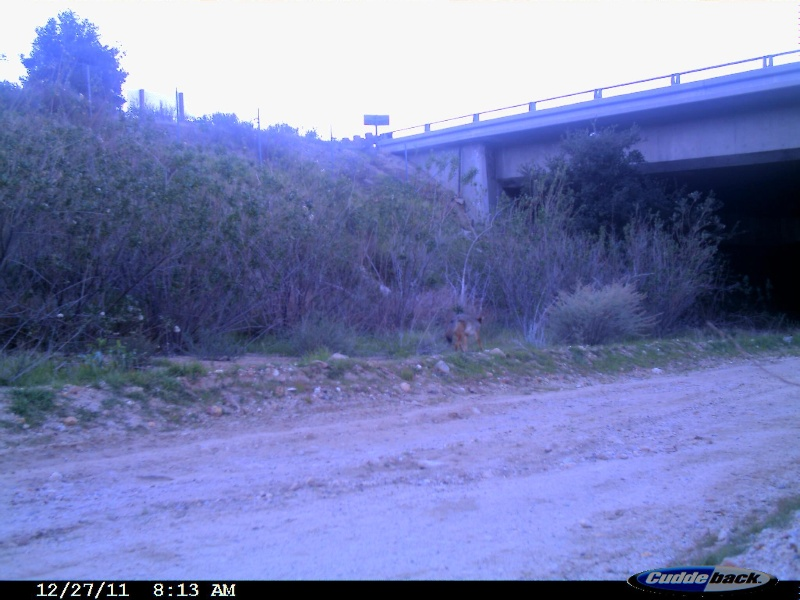coyote: (444, 308, 487, 356)
